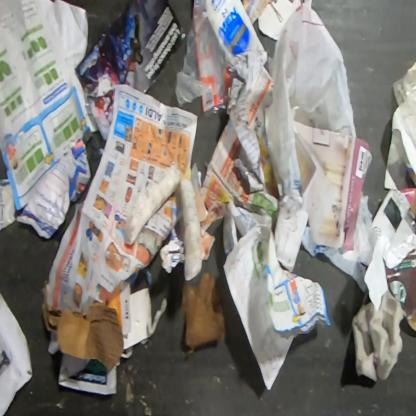cardboard: (363, 167, 415, 333), (40, 284, 125, 372), (181, 271, 227, 356)
soft_plastic: (264, 3, 358, 197), (174, 0, 234, 109), (342, 186, 377, 266)
